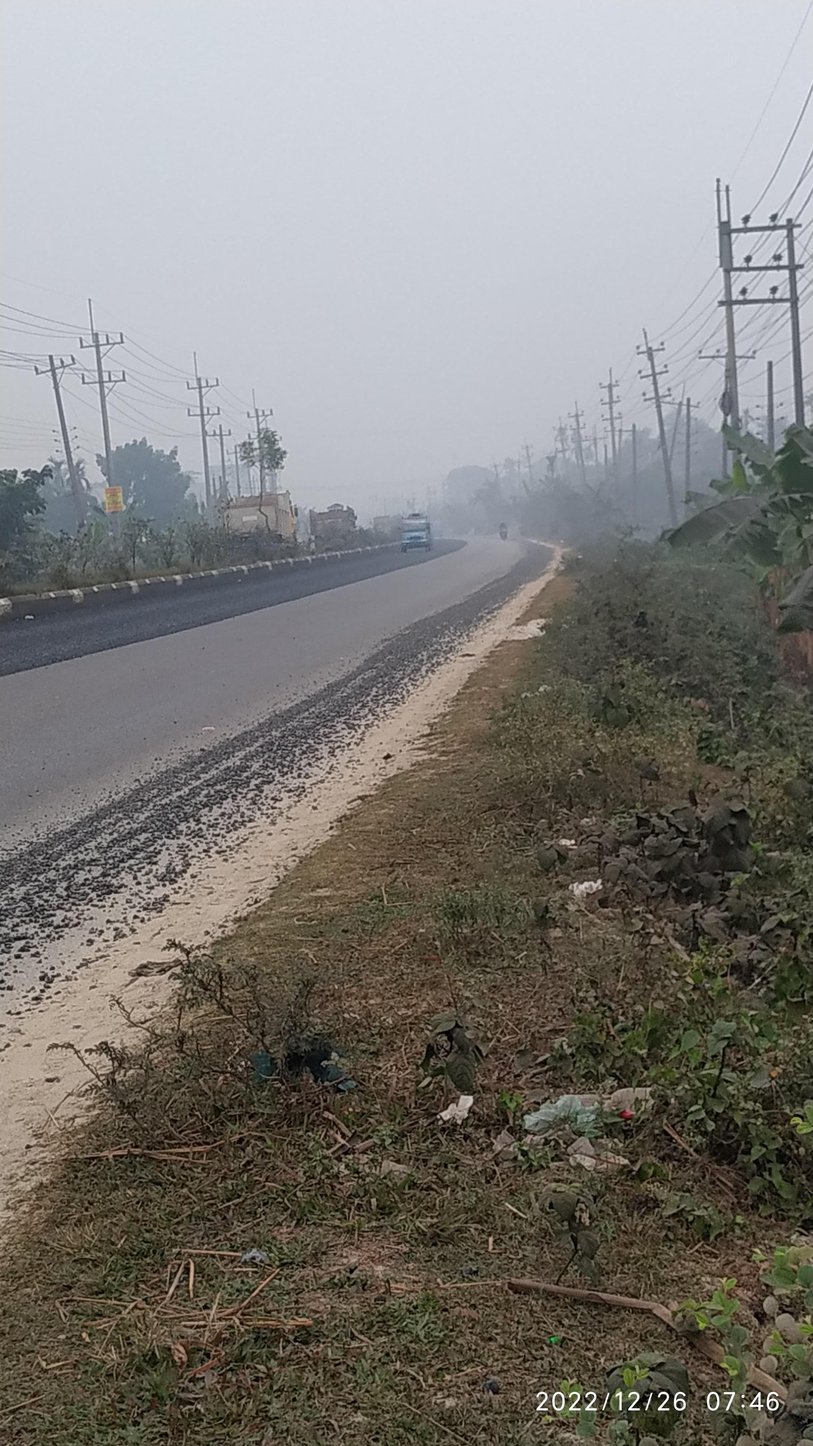Bike: (492, 513, 525, 554)
Truck: (218, 482, 305, 569), (305, 500, 364, 557)
